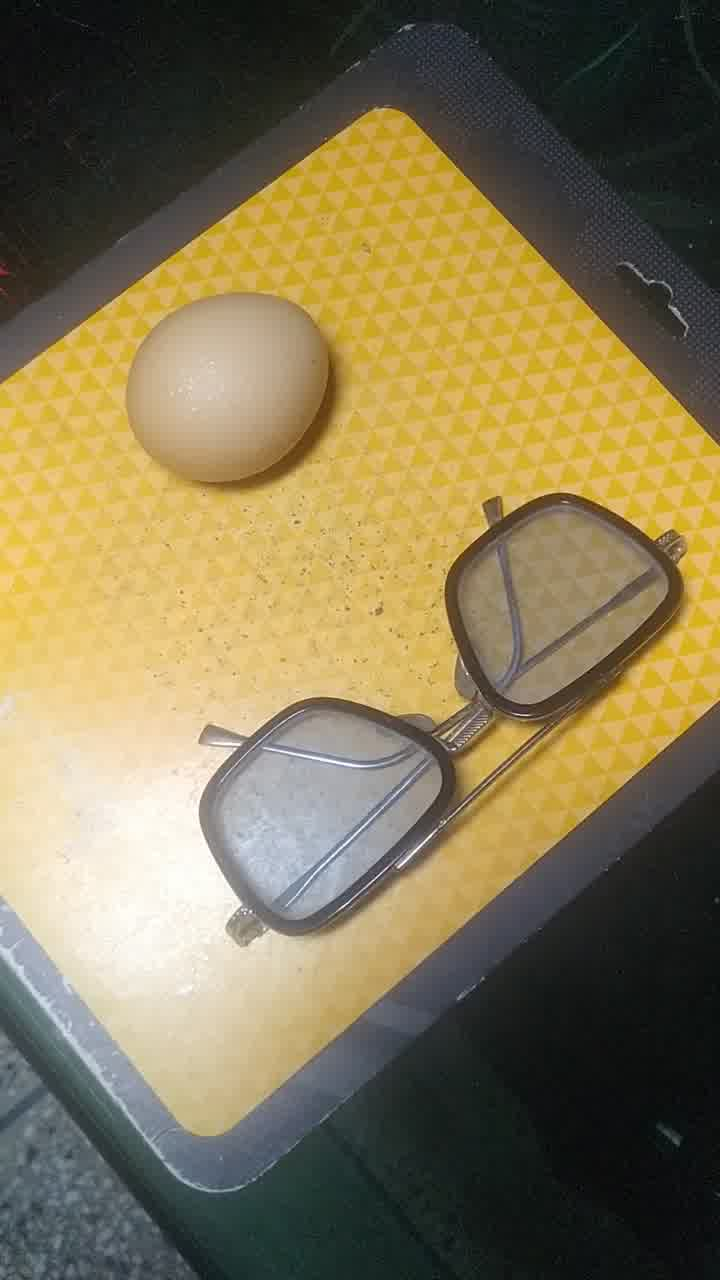egg: (114, 287, 346, 484)
sunglass: (171, 496, 694, 936)
